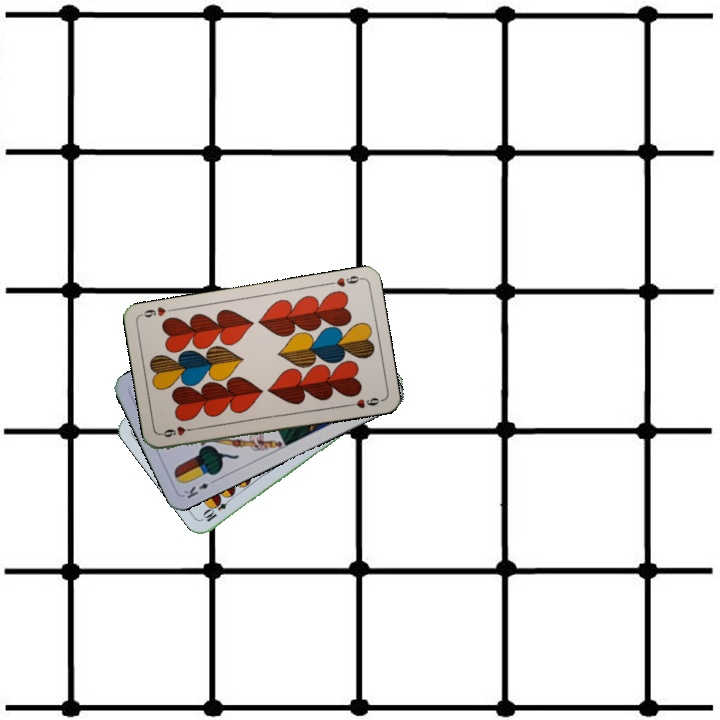E10: (199, 492, 235, 524)
EK: (180, 475, 219, 501)
H9: (157, 422, 198, 440), (324, 272, 364, 289)
